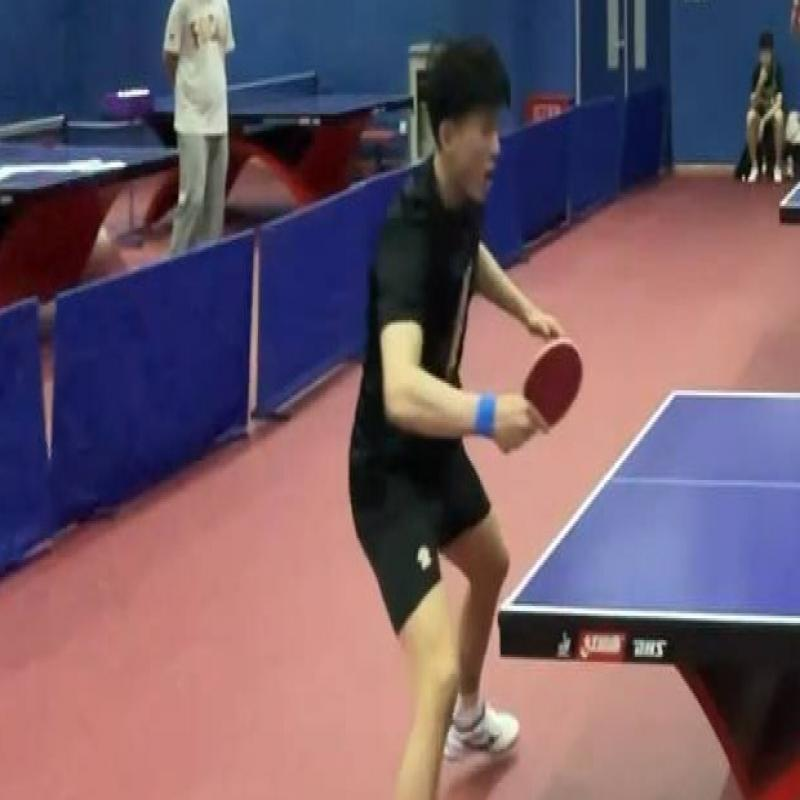bats: (508, 337, 602, 451)
